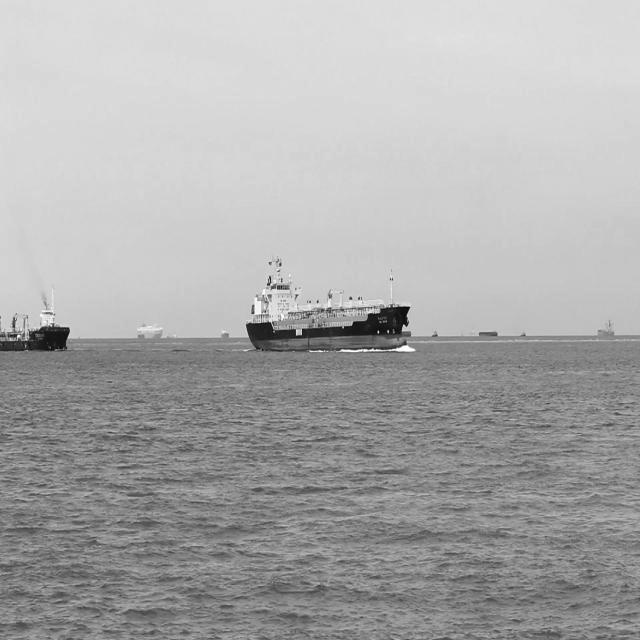ship: (245, 255, 414, 353), (0, 280, 72, 352), (134, 322, 163, 341), (598, 316, 618, 341)
